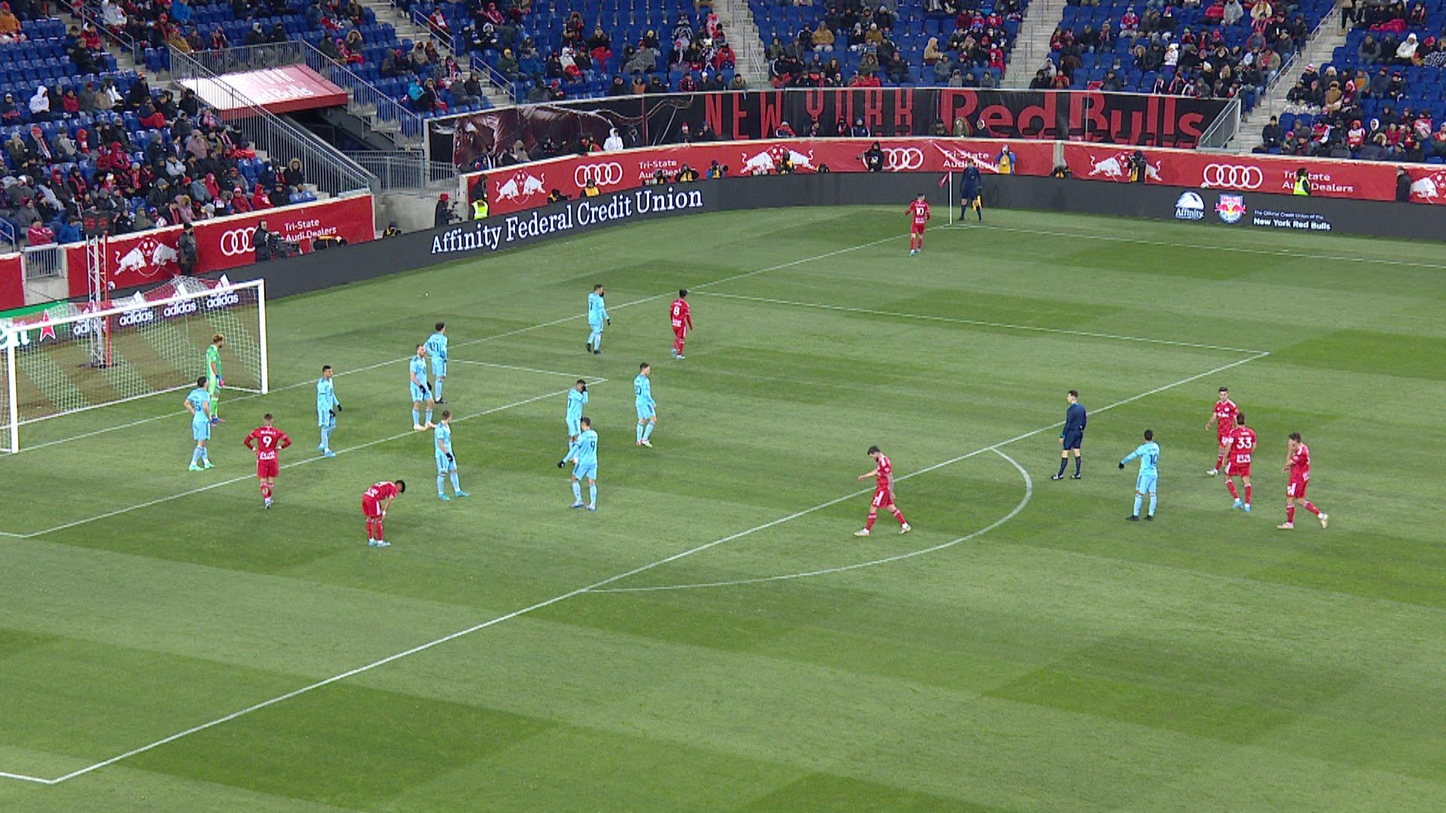Goalkeeper: (205, 333, 226, 427)
Player: (853, 445, 911, 536), (1277, 433, 1328, 529), (243, 413, 292, 509), (558, 417, 598, 511), (1119, 430, 1160, 521), (1222, 413, 1256, 512), (434, 410, 470, 501), (361, 480, 405, 547), (184, 376, 215, 471), (1206, 387, 1239, 476), (409, 344, 437, 431), (317, 365, 342, 457), (565, 379, 589, 467), (423, 323, 448, 404), (634, 362, 657, 448), (585, 284, 610, 355), (670, 290, 693, 360), (905, 194, 930, 257)
referee: (1049, 390, 1086, 479), (958, 158, 982, 223)
